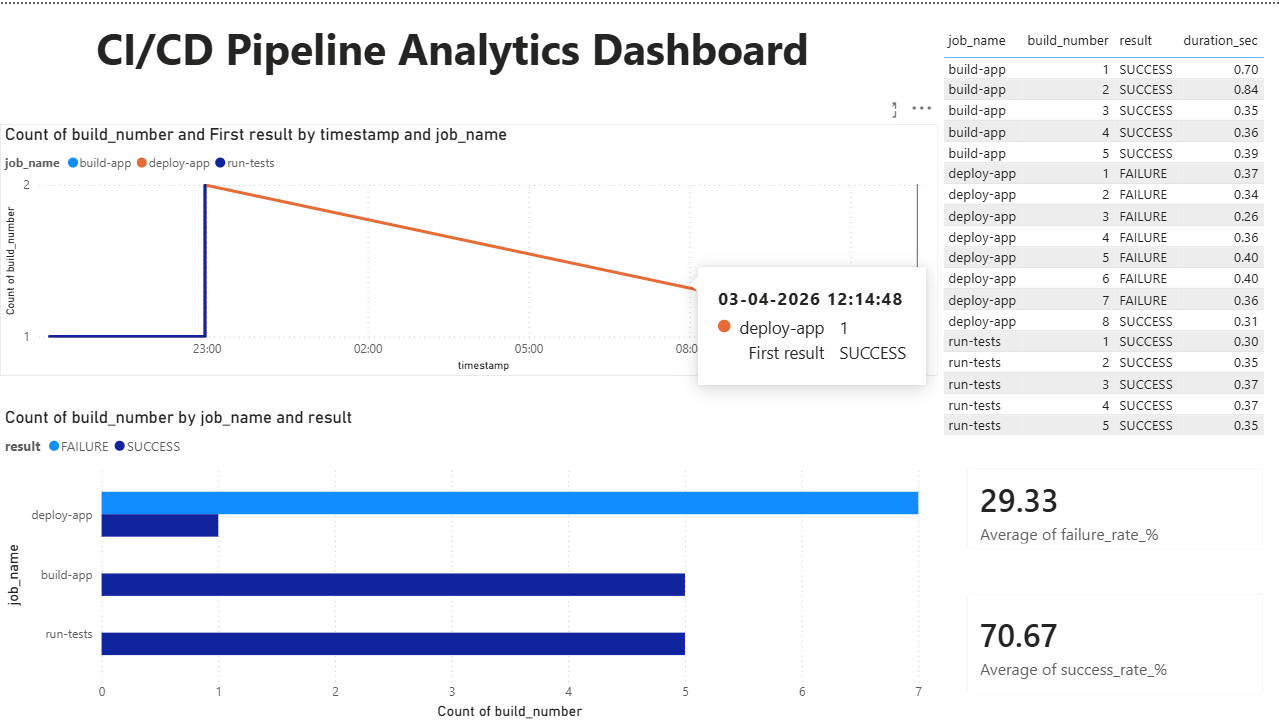

What the dashboard file says about the page in this screenshot:
{"tool":"powerbi","page":{"name":"Page 1","canvas":[1280,720],"ordinal":0},"visuals":[{"type":"cardVisual","fields":{"Data":["Avg(pipeline_summary.success_rate_%)"]},"box":[950,572.5,330,136.2],"z":0},{"type":"cardVisual","fields":{"Data":["Avg(pipeline_summary.failure_rate_%)"]},"box":[950,447.5,330,116.2],"z":1000},{"type":"clusteredBarChart","fields":{"Series":["pipeline_data_clean.result"],"Category":["pipeline_data_clean.job_name"],"Y":["CountNonNull(pipeline_data_clean.build_number)"]},"box":[0,402.5,927.5,317.5],"z":2000},{"type":"lineChart","fields":{"Category":["pipeline_data_clean.timestamp"],"Y":["Count(pipeline_data_clean.build_number)"],"Series":["pipeline_data_clean.job_name"]},"box":[0,120,937.5,252.5],"z":3000},{"type":"tableEx","fields":{"Values":["pipeline_data_clean.job_name","pipeline_data_clean.build_number","pipeline_data_clean.result","pipeline_data_clean.duration_sec"]},"box":[937.5,20,342.5,416.2],"z":4000},{"type":"textbox","box":[12.5,10,880,110],"z":4001}]}

Visuals, with their boxes in screenshot pixels (x1, y1, x2, y2), scaled from the page's 1280x720 canvas onto the 1279x724 screenshot:
cardVisual - Avg(pipeline_summary.success_rate_%): detection(949, 576, 1278, 713)
cardVisual - Avg(pipeline_summary.failure_rate_%): detection(949, 450, 1278, 567)
clusteredBarChart - pipeline_data_clean.result x pipeline_data_clean.job_name: detection(0, 405, 927, 723)
lineChart - pipeline_data_clean.timestamp x Count(pipeline_data_clean.build_number): detection(0, 121, 937, 375)
tableEx - pipeline_data_clean.job_name x pipeline_data_clean.build_number: detection(937, 20, 1278, 439)
textbox: detection(12, 10, 892, 121)
